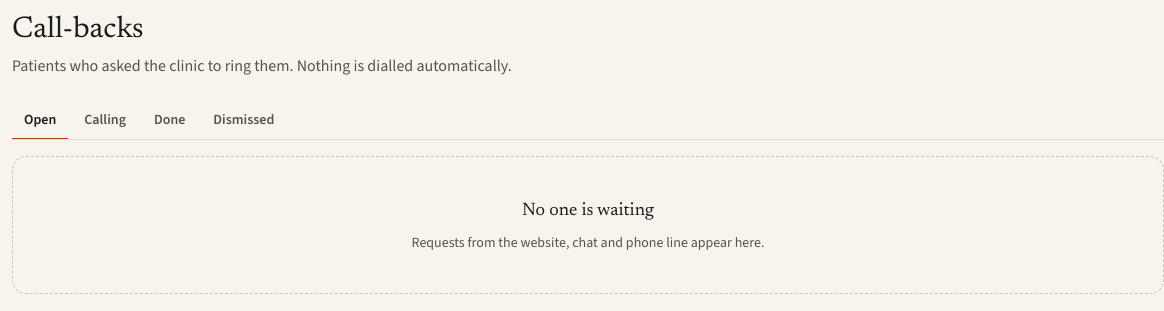
Scenario: call outcomes and reopen › shows viewers the outcome but no Reopen
What coordinates should you click on to do the following:
click the tab "Calling"
I would click on:
 (105, 120)
Its box is [72,102,138,140].
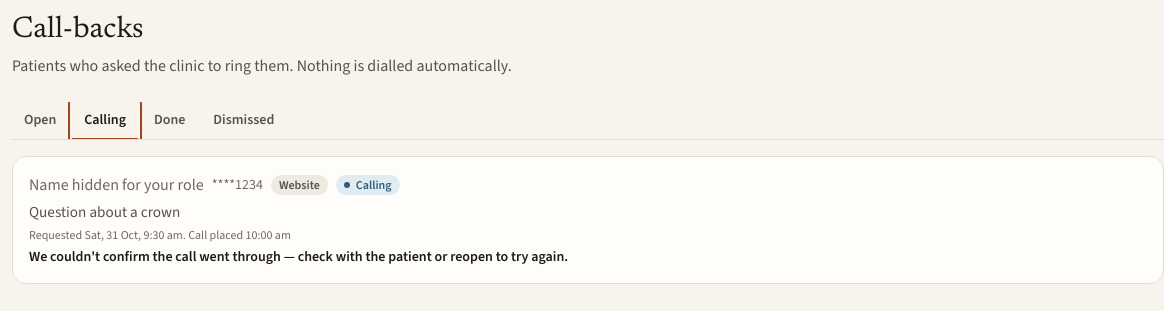
Check: the text "We couldn't confirm the call went through — check with the patient or reopen to try again." is shown, box [29,247,568,266]
